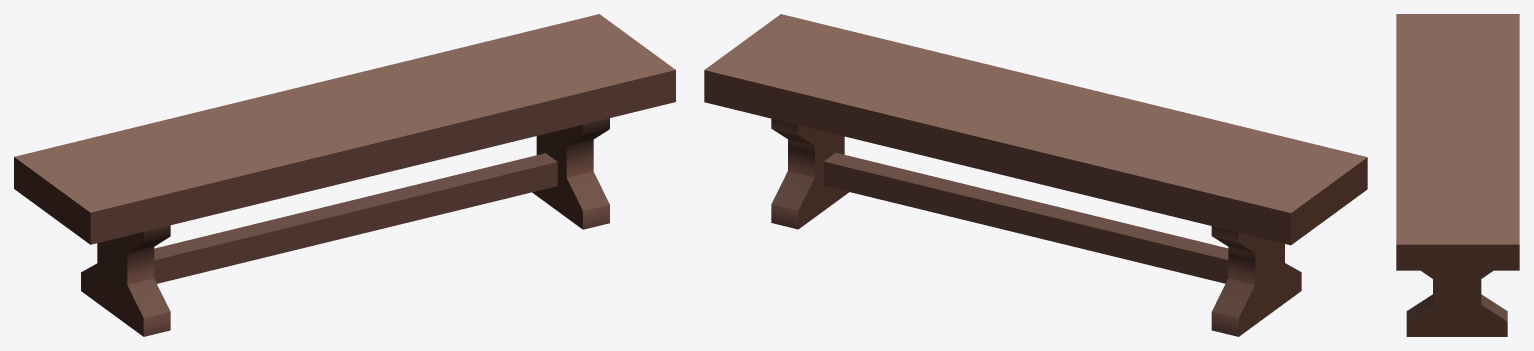
File: SF_Prop_Elven_Bench_01.fbx
3 renders of one model, left to right at view 1: azimuth 30°, elevation 25°; view 2: azimuth 150°, elevation 25°; view 3: azimuth 270°, elevation 25°, orthographic. The views are drawn at different scales.
Visible parts, largest first — view 1: SF_Prop_Elven_Bench_01; view 2: SF_Prop_Elven_Bench_01; view 3: SF_Prop_Elven_Bench_01.
Boxes of the visible parts, bbox=[...] form: SF_Prop_Elven_Bench_01: bbox=[14, 14, 675, 336]; SF_Prop_Elven_Bench_01: bbox=[704, 14, 1367, 336]; SF_Prop_Elven_Bench_01: bbox=[1396, 14, 1519, 336].
Bounding box in the file's own units: 3.73 × 0.8728 × 0.8431.
